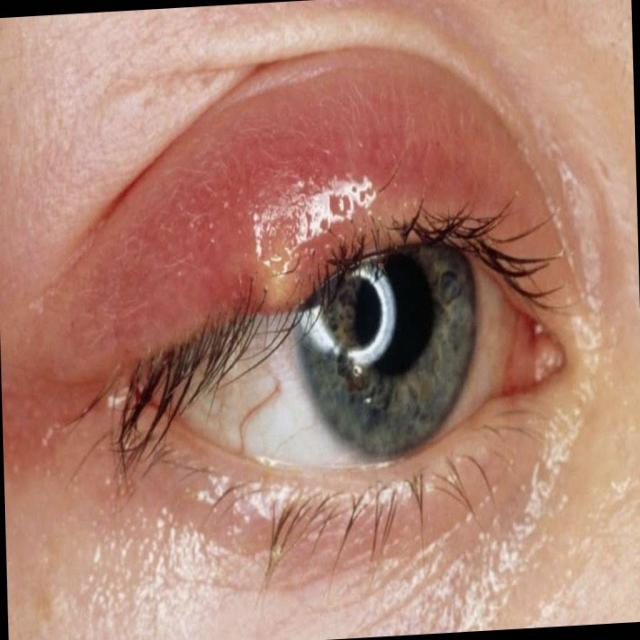Chalazion: (117, 97, 558, 560)
